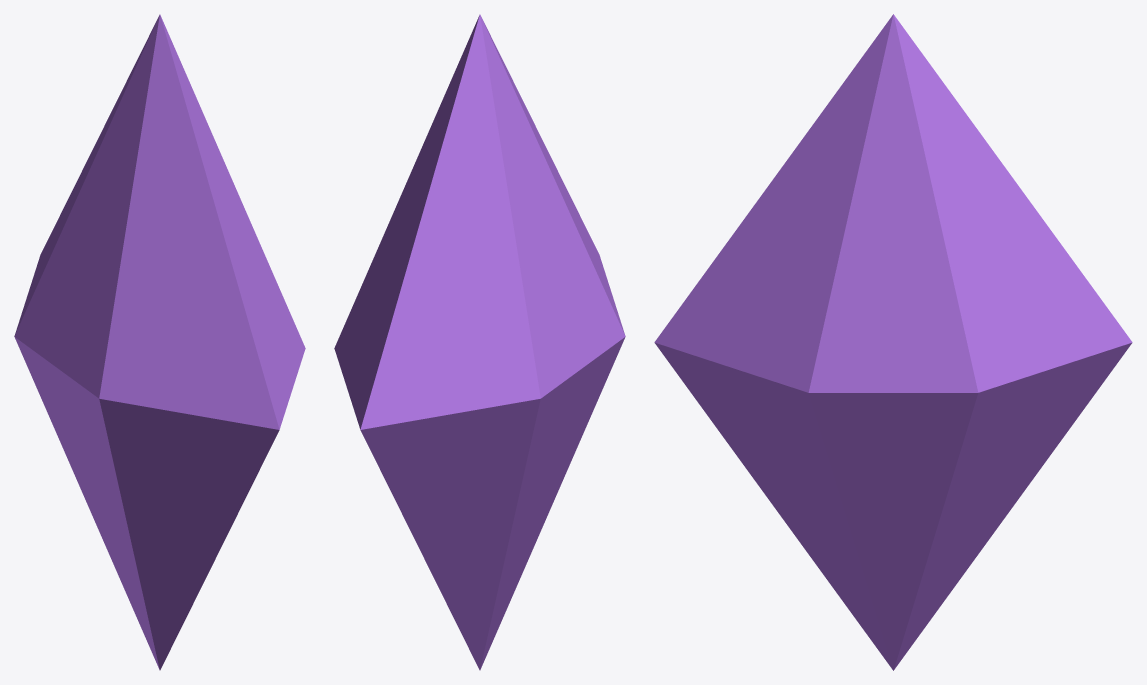
Rendered from Amethyst.fbx.
3 views of the same model, side by side, from view 1: azimuth 30°, elevation 25°; view 2: azimuth 150°, elevation 25°; view 3: azimuth 270°, elevation 25° (orthographic).
Visible parts, largest first — view 1: Amethyst; view 2: Amethyst; view 3: Amethyst.
Part boxes in pixels (box(x1,y1,x2,y2)): Amethyst: box(14, 14, 305, 670); Amethyst: box(334, 14, 625, 670); Amethyst: box(654, 14, 1132, 670).
Bounding box in the file's own units: 36.5 × 111 × 73.24.
